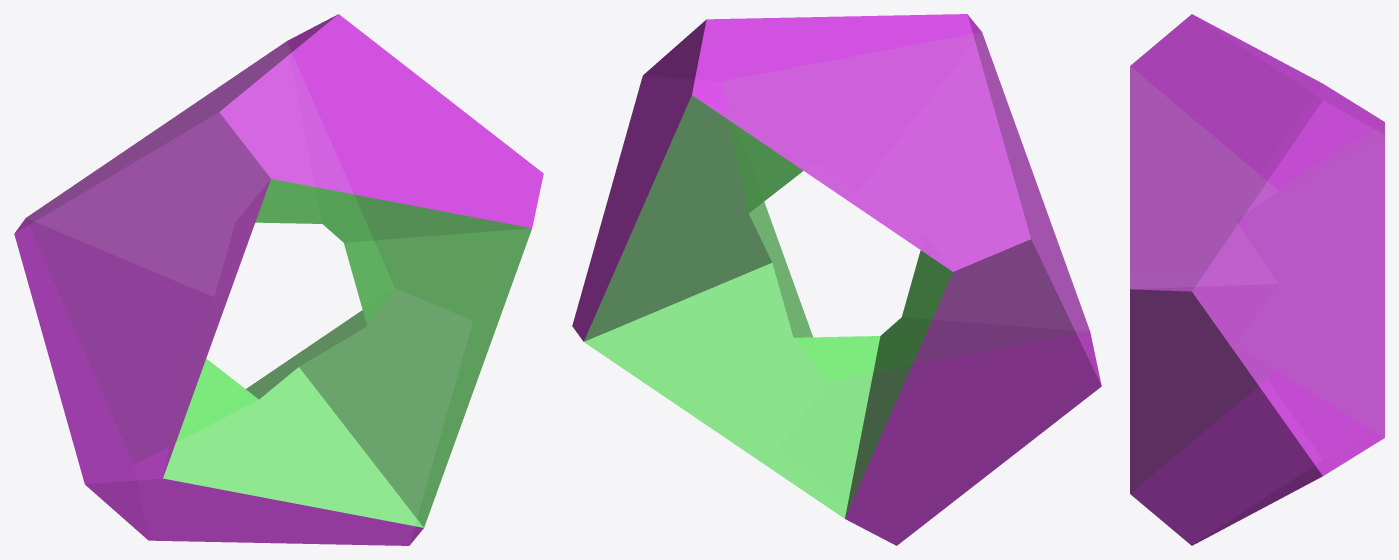
Rendered from TetragonalTrapezohedronToroid.obj.
3 views of the same model, side by side, from view 1: azimuth 30°, elevation 25°; view 2: azimuth 150°, elevation 25°; view 3: azimuth 270°, elevation 25° (orthographic). The views are drawn at different scales.
Size of the model in its own units: 1.62 by 1.62 by 0.8408.
